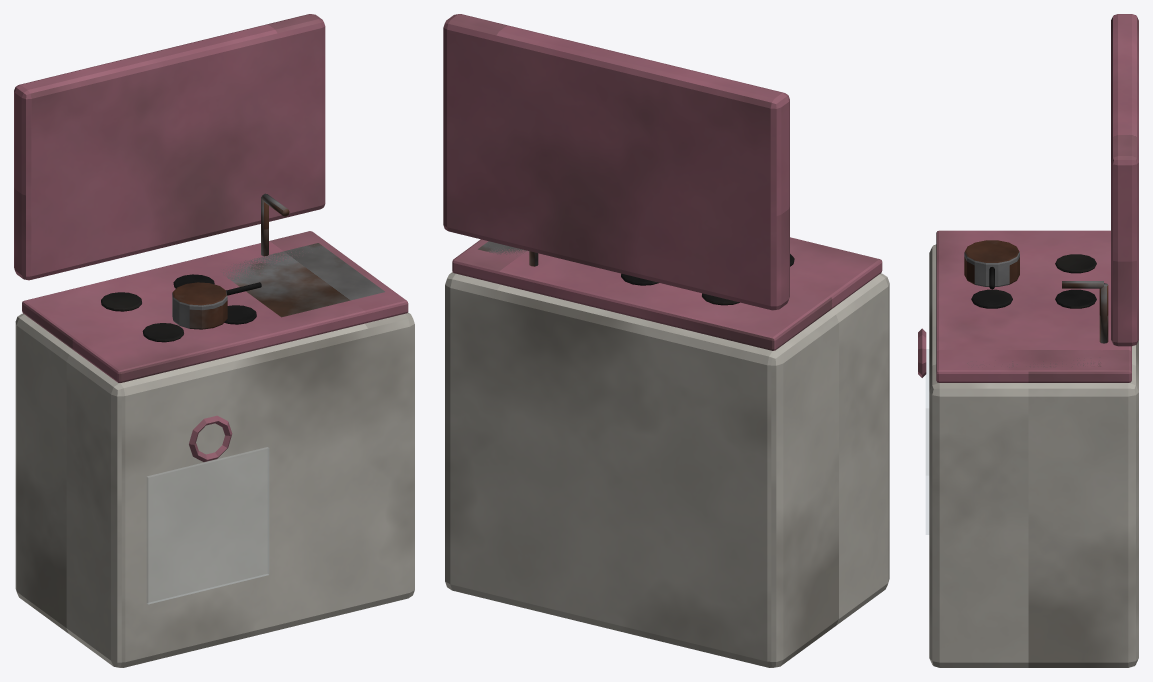
File: TY12_toy_kitchen_set.glb
The picture shows the model from 3 angles, left to right: view 1: azimuth 30°, elevation 25°; view 2: azimuth 150°, elevation 25°; view 3: azimuth 270°, elevation 25°; orthographic projection. The views are drawn at different scales.
Parts seen in each view (by area): view 1: TY12_toy_kitchen_set; view 2: TY12_toy_kitchen_set; view 3: TY12_toy_kitchen_set.
Boxes of the visible parts, x1,y1,x2,y2 form: TY12_toy_kitchen_set: (14, 14, 414, 667); TY12_toy_kitchen_set: (443, 14, 889, 667); TY12_toy_kitchen_set: (918, 14, 1138, 667).
Size of the model in its own units: 0.3704 by 0.6 by 0.2341.
Materials: 5 (4 with a texture image).
